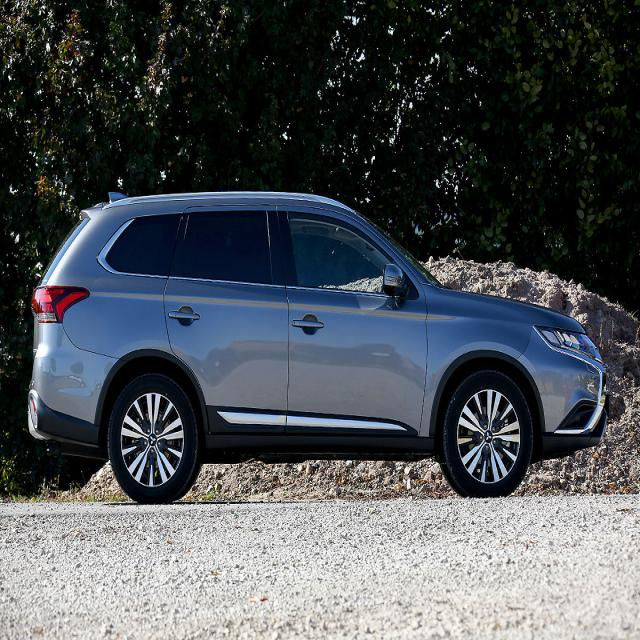light_vehicle: (29, 188, 608, 501)
